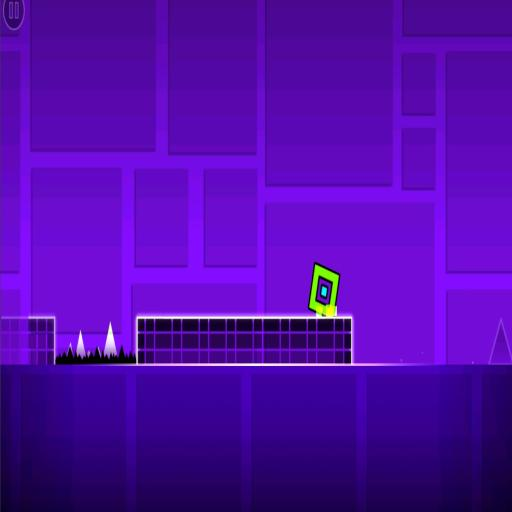block: (134, 314, 354, 371), (0, 313, 58, 367)
player: (308, 263, 340, 315)
spike: (489, 318, 512, 363), (104, 324, 118, 357), (104, 324, 117, 356), (76, 331, 86, 357), (69, 341, 73, 354), (87, 351, 91, 357)
